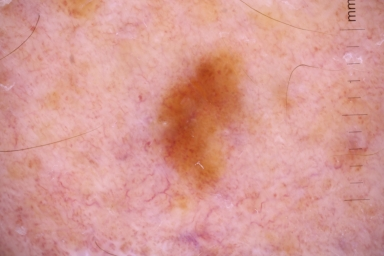nevus: (136, 43, 253, 195)
